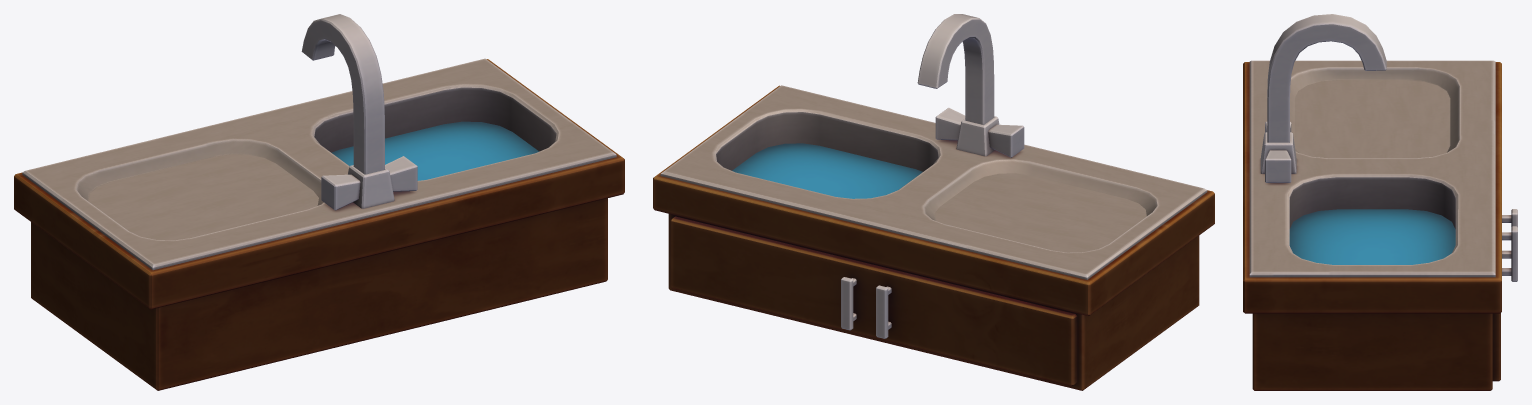
Rendered from Sink.fbx.
3 renders of one model, left to right at view 1: azimuth 30°, elevation 25°; view 2: azimuth 150°, elevation 25°; view 3: azimuth 270°, elevation 25°, orthographic. The views are drawn at different scales.
Parts seen in each view (by area): view 1: Sink.001; view 2: Sink.001; view 3: Sink.001.
Part boxes in pixels (x1,y1,x2,y2): Sink.001: (14,14,624,390); Sink.001: (653,14,1214,390); Sink.001: (1243,14,1517,390).
Size of the model in its own units: 400 by 230 by 212.
1 material, 1 textured.
